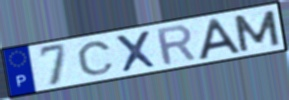7: (37, 42, 68, 88)
A: (196, 16, 244, 62)
C: (75, 40, 116, 77)
M: (230, 8, 283, 54)
R: (153, 23, 199, 67)
X: (113, 28, 159, 74)
